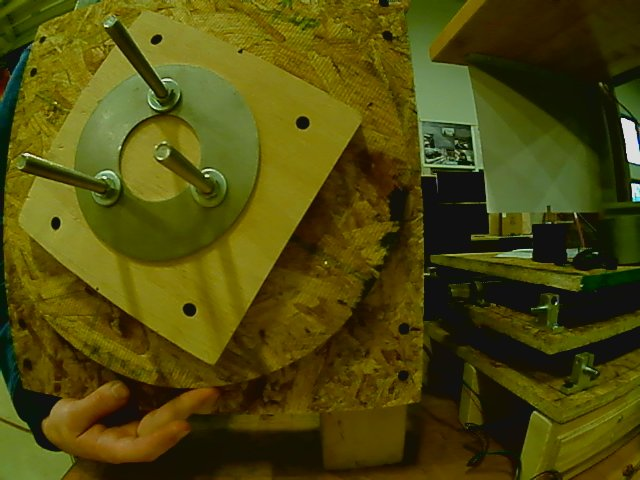bolt: (191, 167, 228, 209), (145, 77, 183, 115), (91, 168, 122, 208)
